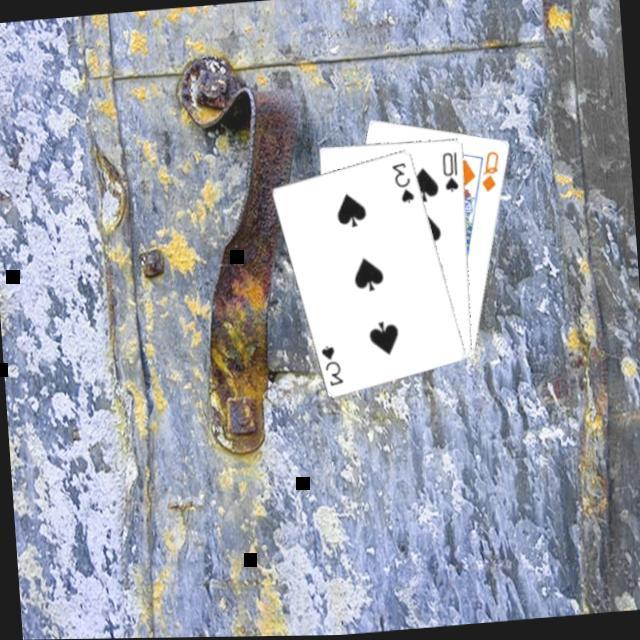10S: (439, 147, 462, 194)
3S: (389, 156, 419, 206), (318, 338, 347, 388)
QD: (478, 146, 506, 194)
